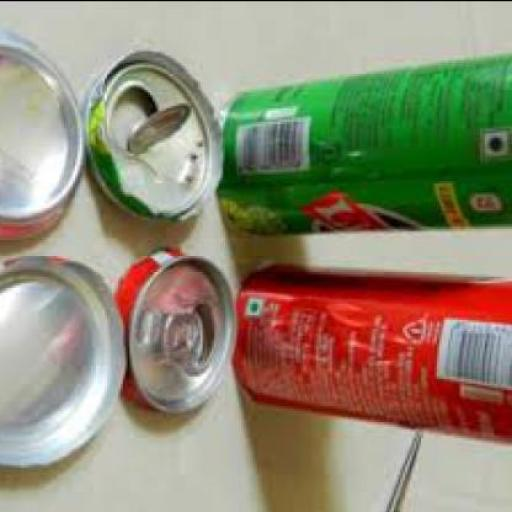metal: (223, 49, 511, 235), (234, 261, 511, 442), (2, 250, 130, 464), (84, 39, 227, 221), (116, 243, 238, 412), (3, 27, 86, 236)
